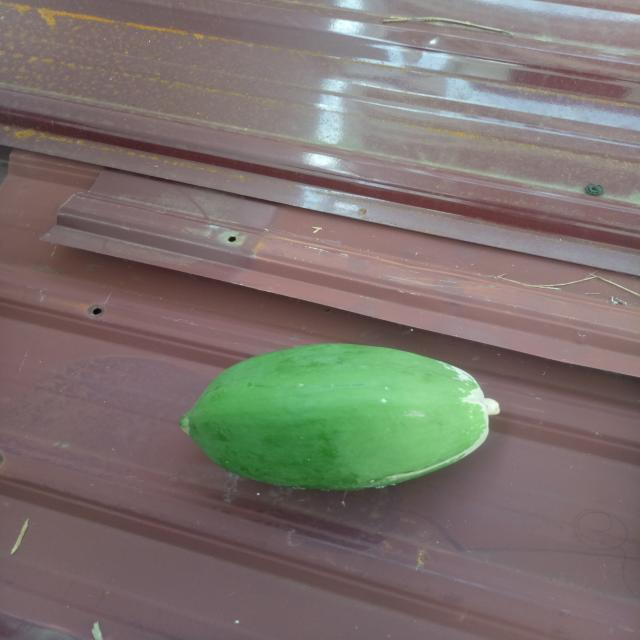Pepaya unrippen: (178, 341, 509, 490)
